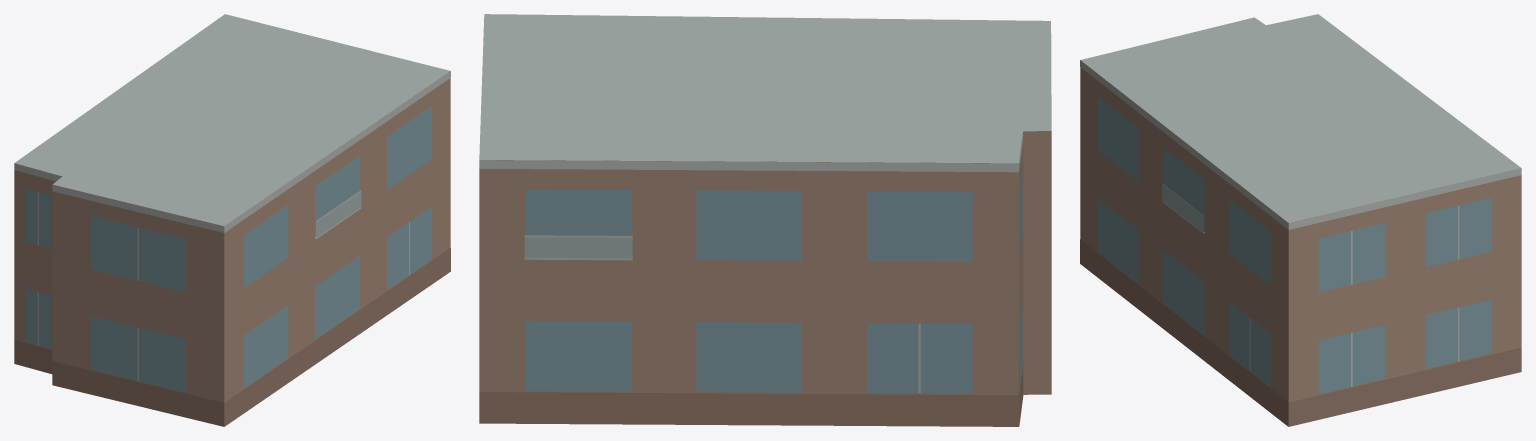
Rendered from survey-upis-32495176.glb.
The picture shows the model from 3 angles, left to right: view 1: azimuth 30°, elevation 25°; view 2: azimuth 150°, elevation 25°; view 3: azimuth 270°, elevation 25°; orthographic projection. The views are drawn at different scales.
Visible parts, largest first — view 1: survey-upis-32495176.tmp; view 2: survey-upis-32495176.tmp; view 3: survey-upis-32495176.tmp.
Part boxes in pixels (x1=…): survey-upis-32495176.tmp: x1=14, y1=14, x2=450, y2=426; survey-upis-32495176.tmp: x1=479, y1=14, x2=1051, y2=426; survey-upis-32495176.tmp: x1=1080, y1=14, x2=1521, y2=426.
Size of the model in its own units: 15.85 by 7.2 by 14.14.
